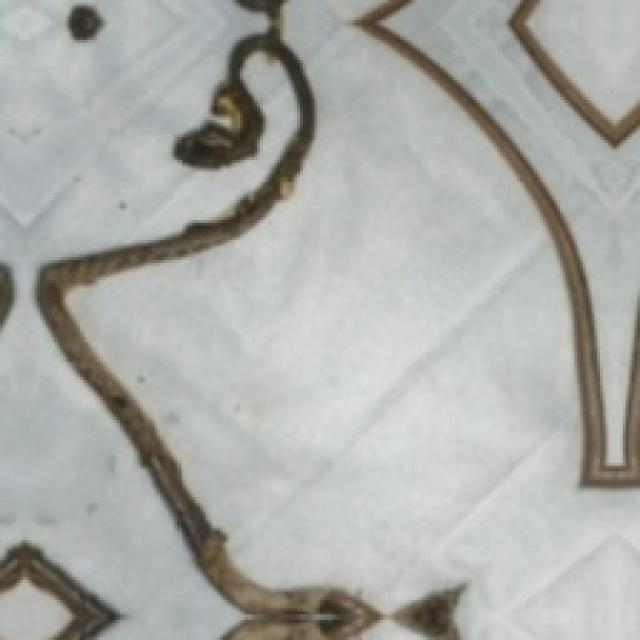philippine whip snake: (37, 0, 380, 637)
